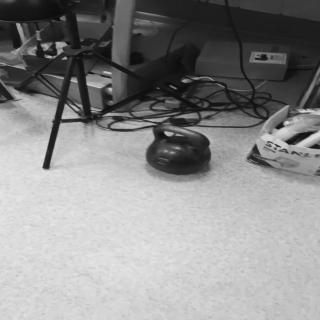kettlebell: (147, 126, 212, 177)
